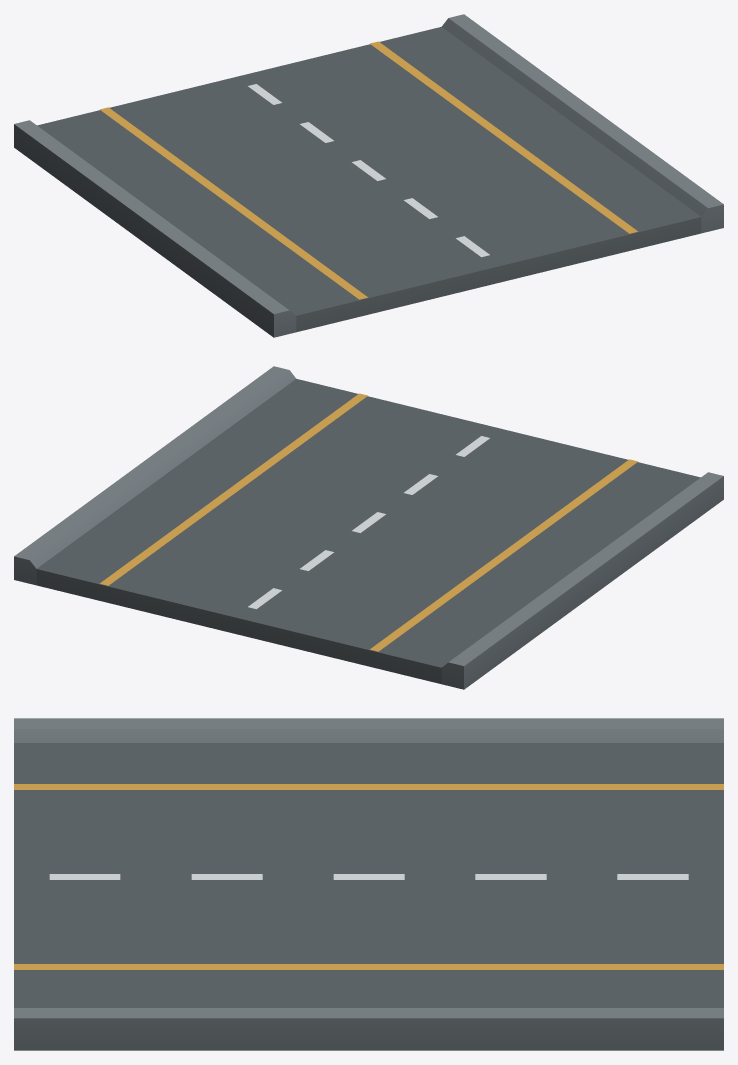
Rendered from road.glb.
3 renders of one model, top to bottom at view 1: azimuth 30°, elevation 25°; view 2: azimuth 150°, elevation 25°; view 3: azimuth 270°, elevation 25°, orthographic. The views are drawn at different scales.
Parts seen in each view (by area): view 1: road_straight; view 2: road_straight; view 3: road_straight.
Part boxes in pixels (x1=…): road_straight: x1=14, y1=14, x2=723, y2=337; road_straight: x1=14, y1=366, x2=723, y2=689; road_straight: x1=14, y1=718, x2=723, y2=1050.
Size of the model in its own units: 2 by 0.1 by 2.
1 material, 1 textured.
